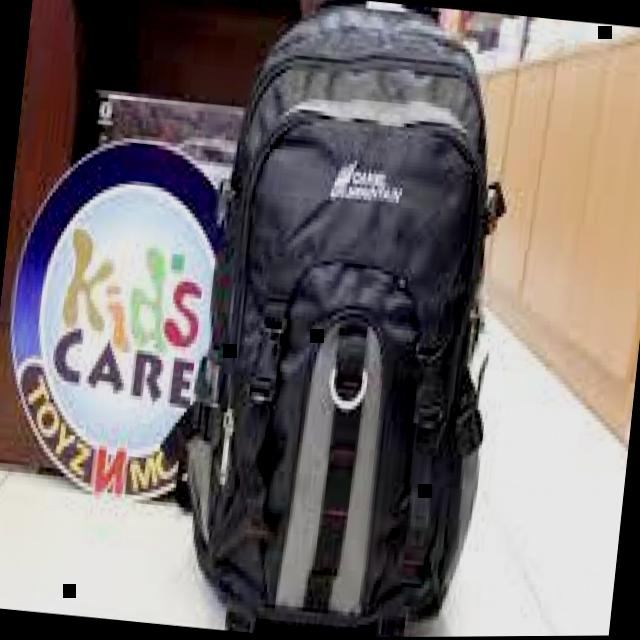luggage: (151, 0, 541, 639)
